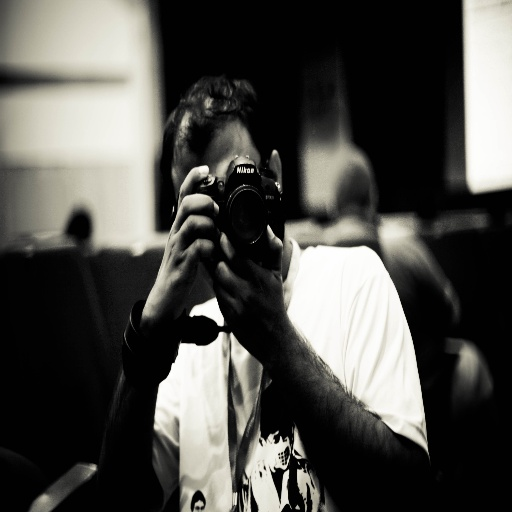hand: (121, 159, 242, 424), (210, 220, 285, 362)
